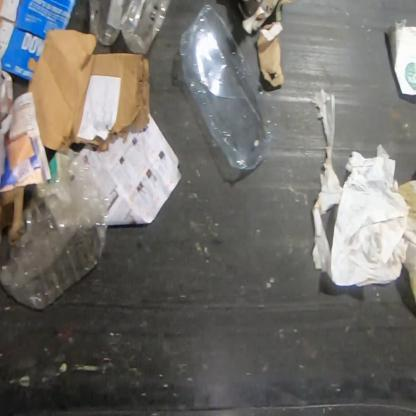cardboard: (26, 28, 152, 152), (0, 0, 79, 82), (237, 0, 295, 89), (0, 185, 25, 244)
rigid_plastic: (0, 146, 111, 312), (175, 3, 280, 172), (87, 0, 172, 56)
